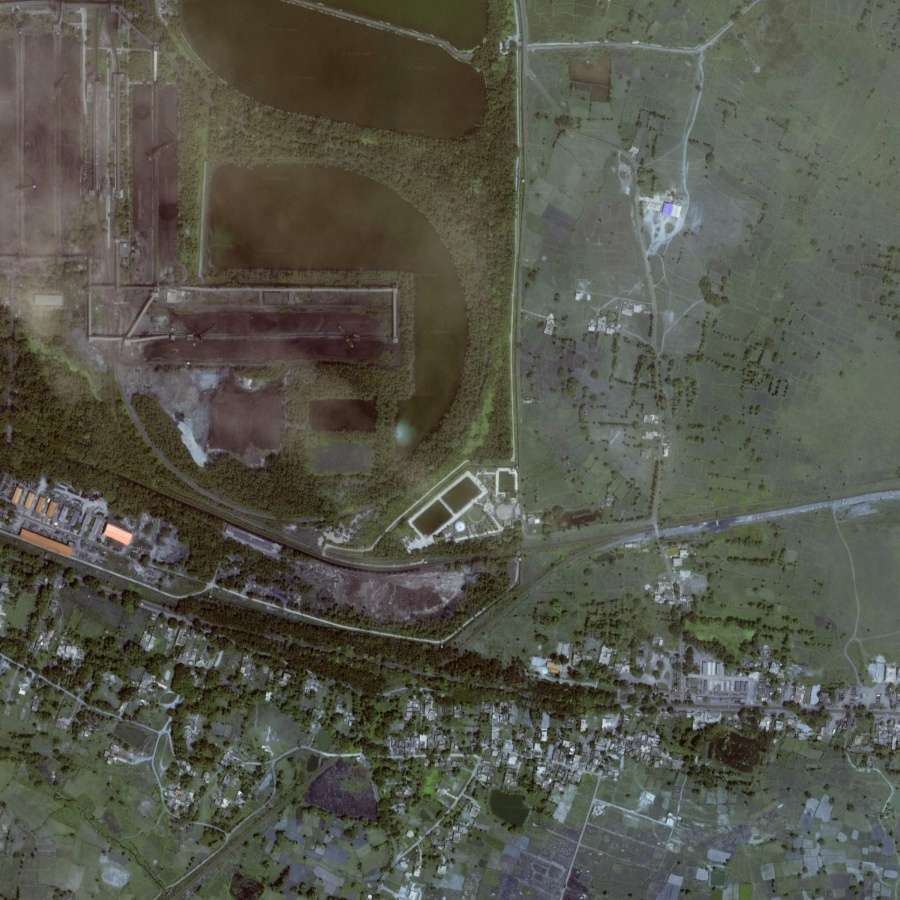PowerPlant: (124, 286, 408, 472)
